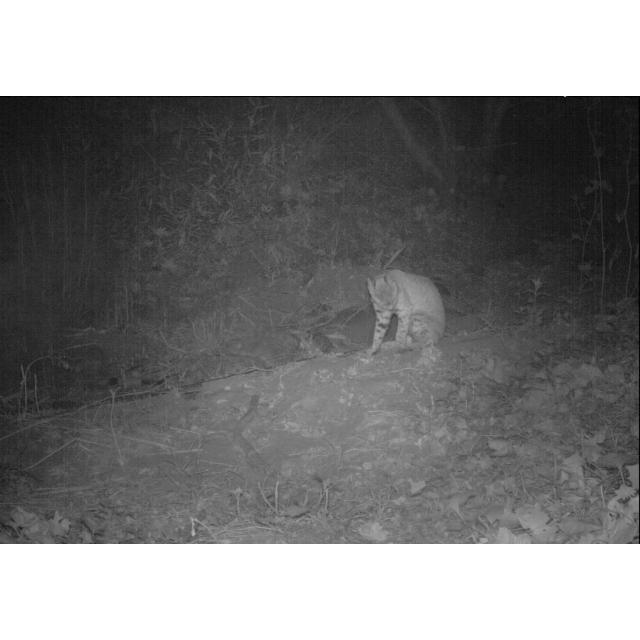animals: (363, 268, 451, 360)
